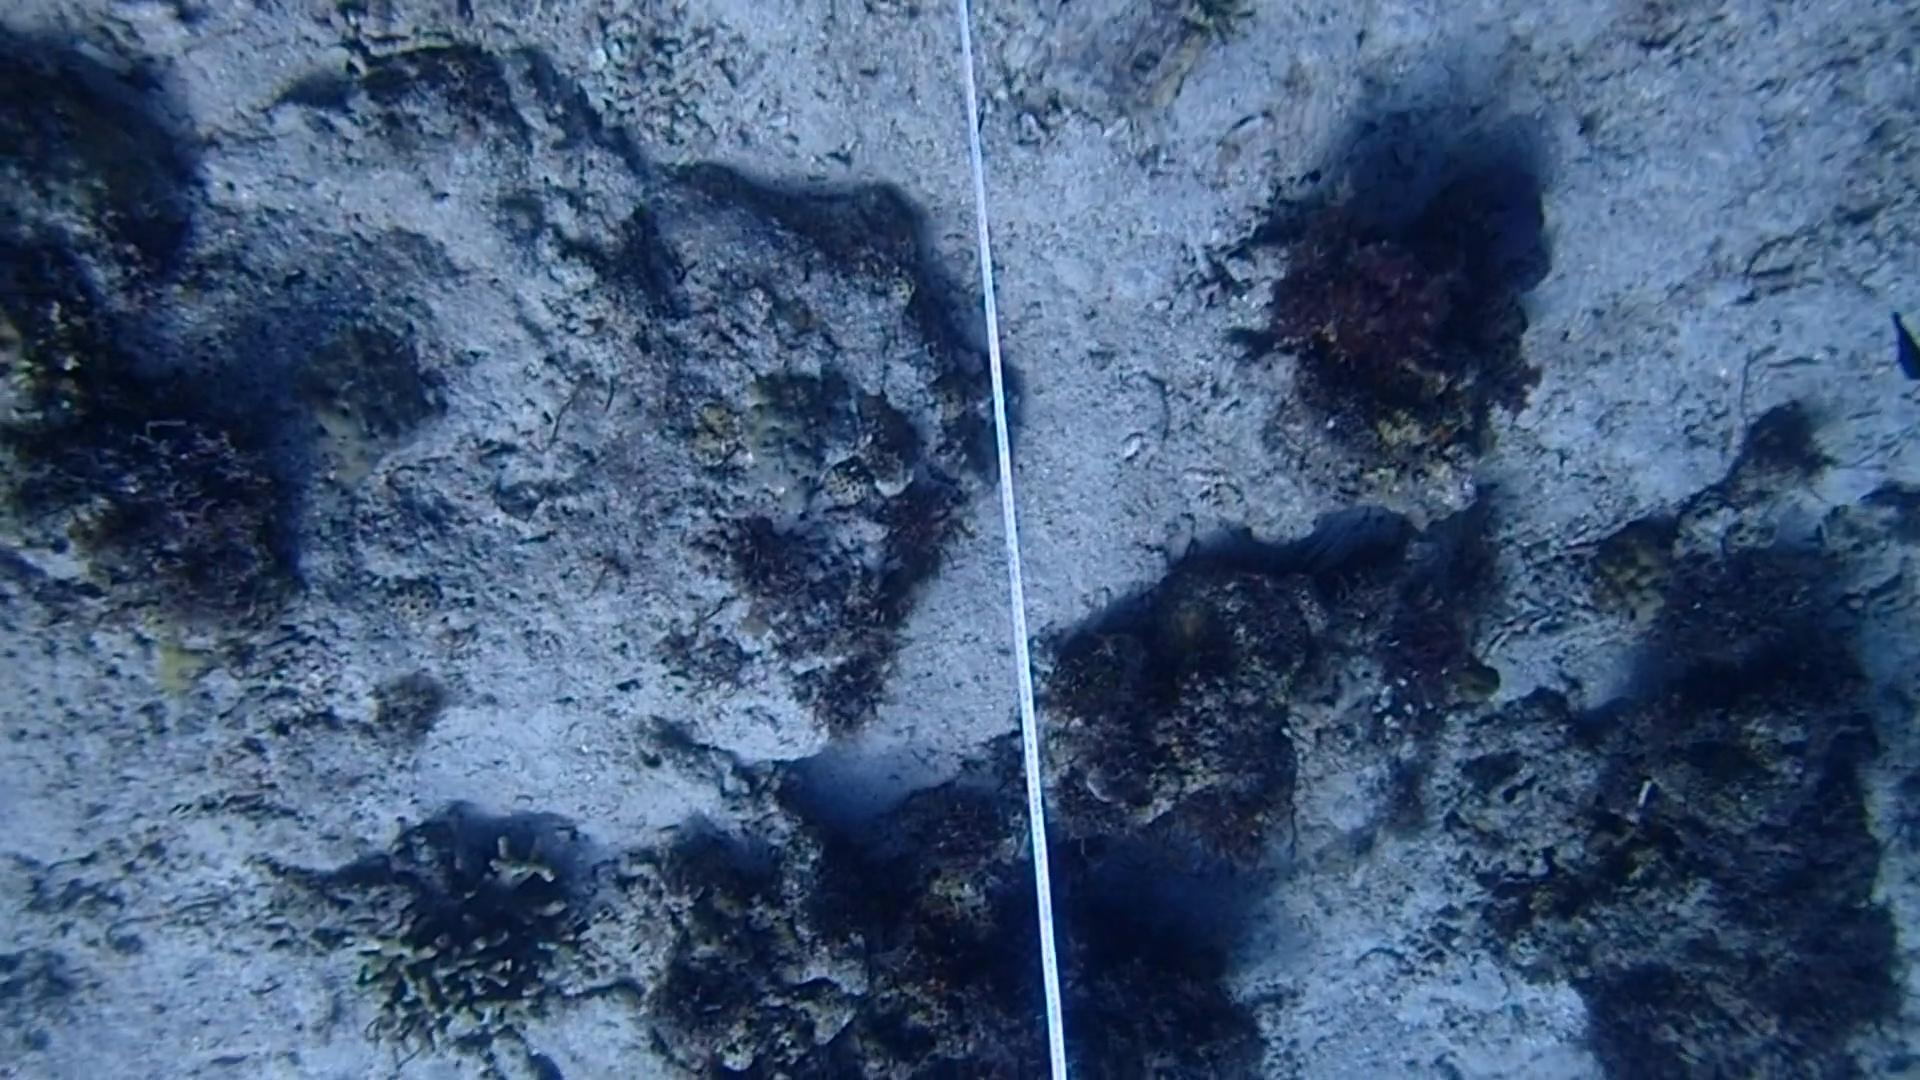Dark Fish: (1883, 314, 1920, 394)
